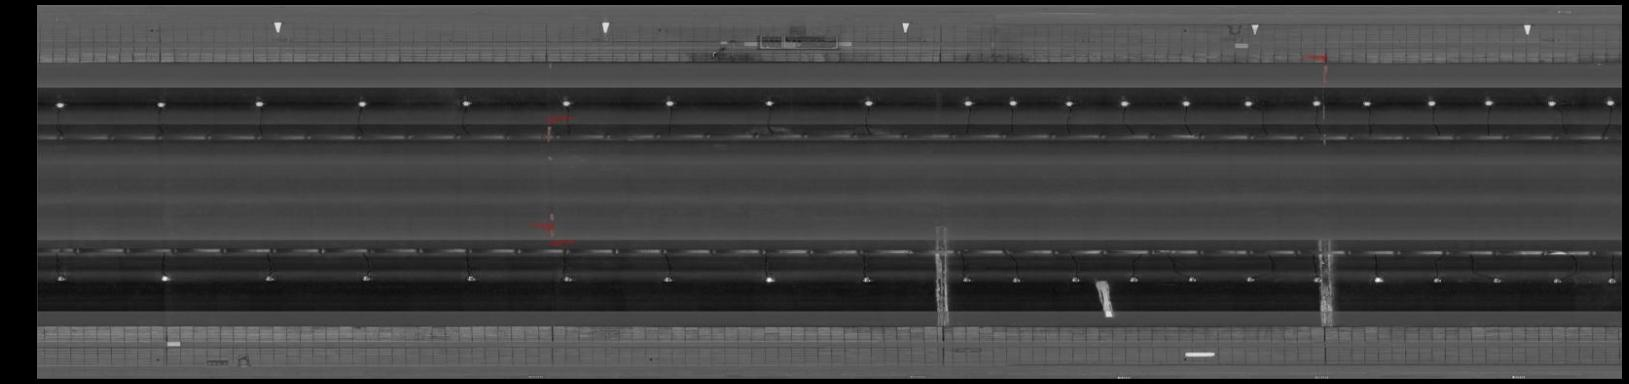light: (855, 95, 880, 110), (757, 271, 780, 286), (259, 271, 281, 286), (657, 272, 678, 286), (51, 270, 71, 285), (461, 271, 482, 285), (556, 95, 577, 110), (660, 95, 680, 110), (155, 270, 173, 285), (760, 95, 780, 110), (352, 97, 371, 111), (1182, 272, 1201, 286), (1238, 95, 1258, 109), (148, 99, 170, 110), (1549, 271, 1566, 286), (1602, 272, 1618, 289), (457, 95, 475, 110), (357, 271, 376, 284), (1115, 95, 1133, 109), (856, 274, 876, 286), (1478, 95, 1498, 108), (1060, 95, 1077, 109), (1369, 272, 1387, 285), (1542, 95, 1559, 109), (1422, 95, 1440, 109), (50, 99, 69, 111), (250, 98, 269, 110), (558, 274, 577, 286), (1601, 95, 1618, 109), (1004, 97, 1021, 109), (1428, 273, 1446, 285), (1124, 274, 1143, 285), (958, 274, 974, 286), (1007, 274, 1023, 286), (1241, 274, 1258, 286), (1489, 274, 1505, 286), (959, 95, 977, 107), (1069, 273, 1084, 286), (1360, 97, 1376, 109), (1177, 97, 1193, 109), (1307, 95, 1324, 107), (1308, 274, 1323, 285)
